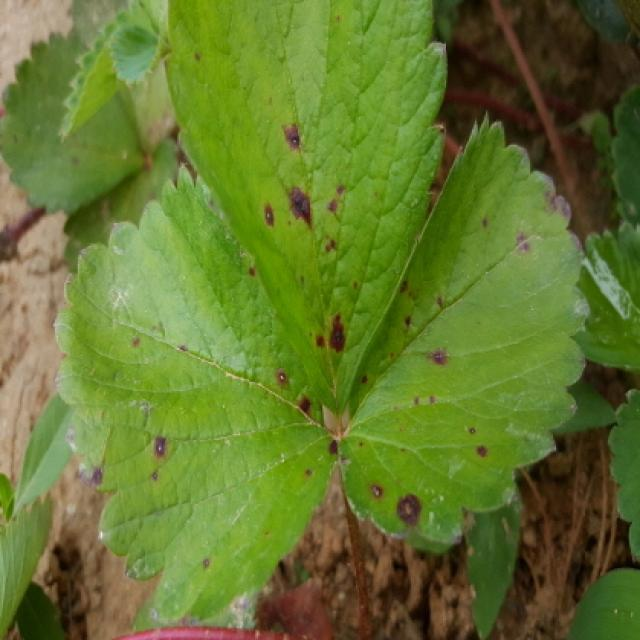Leaf Spot: (52, 160, 336, 626), (161, 0, 448, 417), (336, 108, 592, 555), (0, 27, 151, 215)
